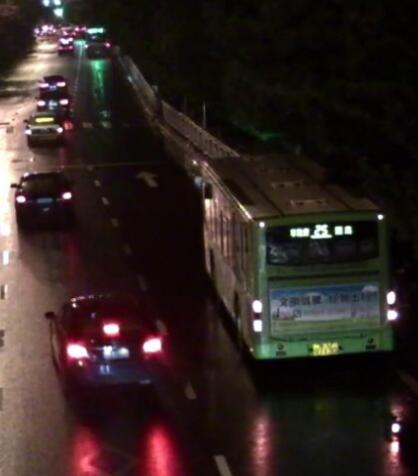bus: (193, 147, 397, 359)
car: (42, 292, 170, 407), (11, 170, 73, 229), (24, 113, 66, 141), (35, 91, 70, 116), (36, 73, 69, 96), (85, 35, 108, 59), (53, 37, 73, 56)
